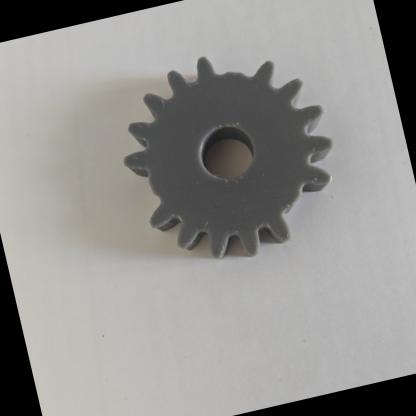defect: (249, 152, 371, 270), (87, 140, 197, 258), (184, 24, 298, 110)
gear: (58, 0, 392, 330)
